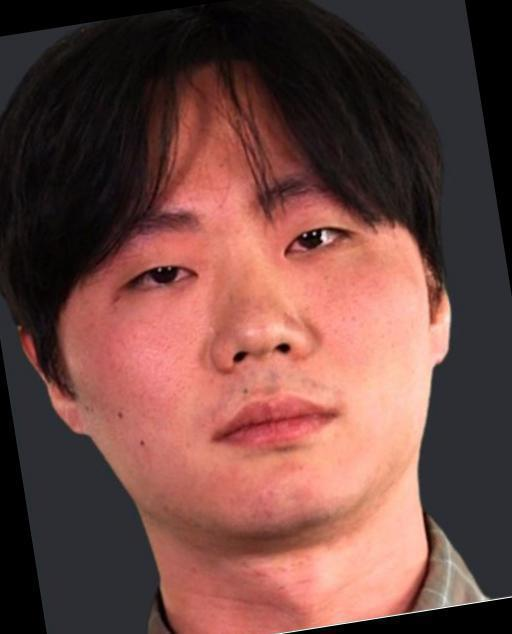Drunk: (71, 86, 426, 508)
